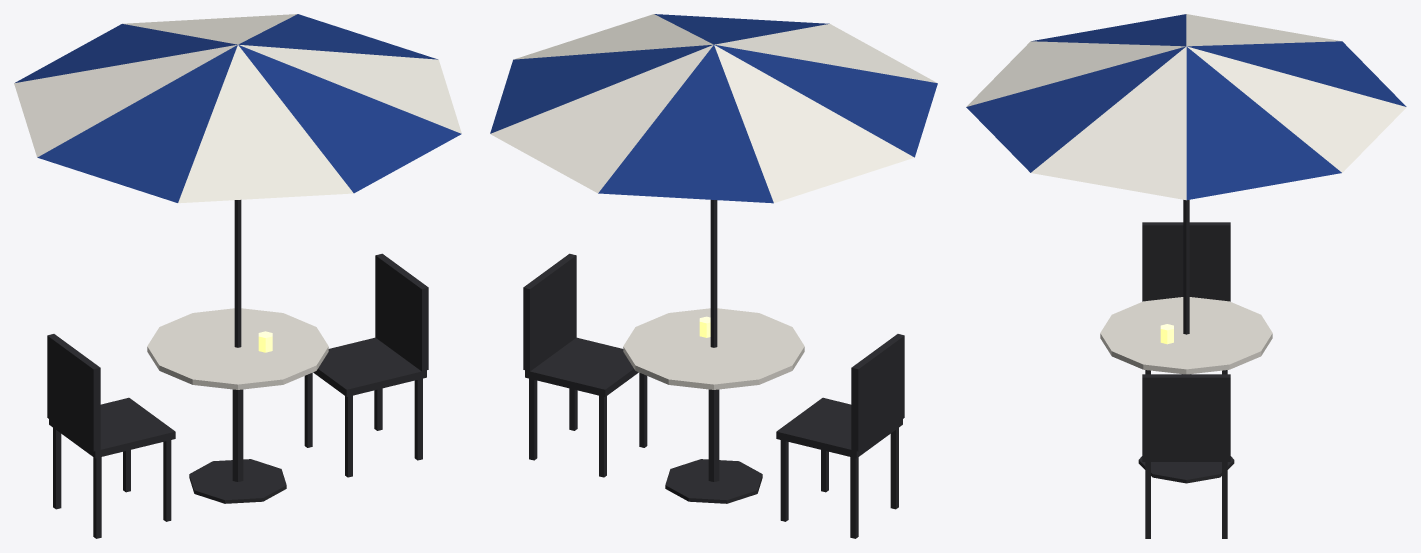
The model's file is terrace_table.glb.
3 views of the same model, side by side, from view 1: azimuth 30°, elevation 25°; view 2: azimuth 150°, elevation 25°; view 3: azimuth 270°, elevation 25° (orthographic). The views are drawn at different scales.
Parts seen in each view (by area): view 1: terrace_table; view 2: terrace_table; view 3: terrace_table.
Part boxes in pixels (left/top/right/bottom): terrace_table: left=14, top=14, right=461, bottom=538; terrace_table: left=490, top=14, right=937, bottom=538; terrace_table: left=966, top=14, right=1406, bottom=538.
Bounding box in the file's own units: 2.3 × 2.4 × 2.3.
